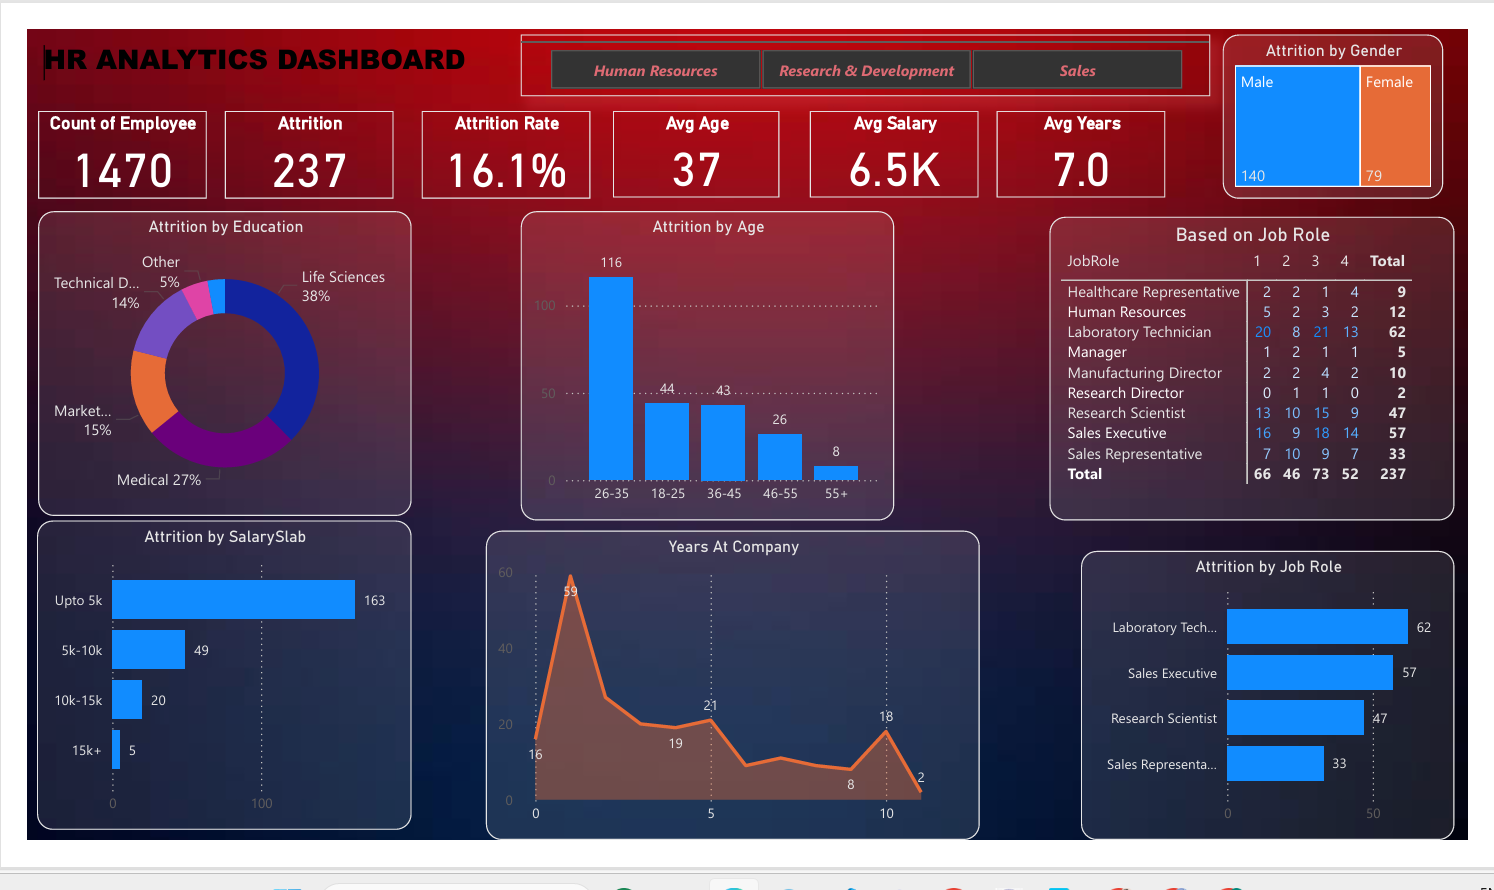

The dashboard page shown, as its layout file describes it:
{"tool":"powerbi","page":{"name":"Page 1","canvas":[1280,720],"ordinal":0},"visuals":[{"type":"card","title":"Count of Employee","fields":{"Values":["CountNonNull(27388189-a351-43fb-8dd9-cc8c91e.EmpID)"]},"box":[9.2,72.4,150,77.6],"z":0},{"type":"card","title":"Attrition","fields":{"Values":["Sum(27388189-a351-43fb-8dd9-cc8c91e.AttritionCount)"]},"box":[175,72.4,150,77.6],"z":1000},{"type":"card","title":"Attrition Rate","fields":{"Values":["HR_Analytics.AttritionRate"]},"box":[350,72.4,150,77.6],"z":2000},{"type":"card","title":"Avg Age","fields":{"Values":["Avg(HR_Analytics.Age)"]},"box":[519.7,72.4,148.7,76.3],"z":3000},{"type":"card","title":"Avg Salary","fields":{"Values":["Avg(HR_Analytics.MonthlyIncome)"]},"box":[694.7,72.4,150,76.3],"z":3001},{"type":"card","title":"Avg Years","fields":{"Values":["Avg(HR_Analytics.YearsAtCompany)"]},"box":[860.5,72.4,150,76.3],"z":3002},{"type":"donutChart","title":"Attrition by Education","fields":{"Category":["HR_Analytics.EducationField"],"Y":["Sum(HR_Analytics.AttritionCount)"]},"box":[9.2,160.5,331.6,271.1],"z":3003},{"type":"columnChart","title":"Attrition by Age","fields":{"Category":["HR_Analytics.AgeGroup"],"Y":["Sum(HR_Analytics.AttritionCount)"]},"box":[438.2,160.5,331.6,275],"z":3004},{"type":"pivotTable","title":"Based on Job Role","fields":{"Rows":["HR_Analytics.JobRole"],"Columns":["HR_Analytics.JobSatisfaction"],"Values":["Sum(HR_Analytics.AttritionCount)"]},"box":[907.9,165.8,360.5,269.7],"z":3005},{"type":"clusteredBarChart","title":"Attrition by SalarySlab","fields":{"Category":["HR_Analytics.SalarySlab"],"Y":["Sum(HR_Analytics.AttritionCount)"]},"box":[7.9,435.5,332.9,275],"z":3006},{"type":"clusteredBarChart","title":"Attrition by Job Role","fields":{"Category":["HR_Analytics.JobRole"],"Y":["Sum(HR_Analytics.AttritionCount)"]},"box":[935.5,463.2,332.9,256.6],"z":3007},{"type":"areaChart","title":"Years At Company","fields":{"Category":["HR_Analytics.YearsAtCompany"],"Y":["Sum(HR_Analytics.AttritionCount)"]},"box":[406.6,444.7,439.5,275],"z":3008},{"type":"treemap","title":"Attrition by Gender","fields":{"Group":["HR_Analytics.Gender"],"Values":["Sum(HR_Analytics.AttritionCount)"]},"box":[1061.8,3.9,196.1,146.1],"z":3009},{"type":"slicer","fields":{"Values":["HR_Analytics.Department"]},"box":[438.2,3.9,613.2,55.3],"z":3010},{"type":"textbox","box":[9.2,3.9,428.9,55.3],"z":3011}]}

Visuals, with their boxes in screenshot pixels (x1, y1, x2, y2):
"Count of Employee" card: (x1=22, y1=103, x2=195, y2=192)
"Attrition" card: (x1=213, y1=103, x2=386, y2=192)
"Attrition Rate" card: (x1=415, y1=103, x2=587, y2=192)
"Avg Age" card: (x1=610, y1=103, x2=781, y2=191)
"Avg Salary" card: (x1=811, y1=103, x2=984, y2=191)
"Avg Years" card: (x1=1002, y1=103, x2=1175, y2=191)
"Attrition by Education" donutChart: (x1=22, y1=204, x2=404, y2=516)
"Attrition by Age" columnChart: (x1=516, y1=204, x2=898, y2=521)
"Based on Job Role" pivotTable: (x1=1057, y1=210, x2=1472, y2=521)
"Attrition by SalarySlab" clusteredBarChart: (x1=21, y1=521, x2=404, y2=837)
"Attrition by Job Role" clusteredBarChart: (x1=1088, y1=553, x2=1472, y2=848)
"Years At Company" areaChart: (x1=480, y1=531, x2=986, y2=848)
"Attrition by Gender" treemap: (x1=1234, y1=24, x2=1460, y2=192)
slicer - HR_Analytics.Department: (x1=516, y1=24, x2=1222, y2=88)
textbox: (x1=22, y1=24, x2=516, y2=88)
